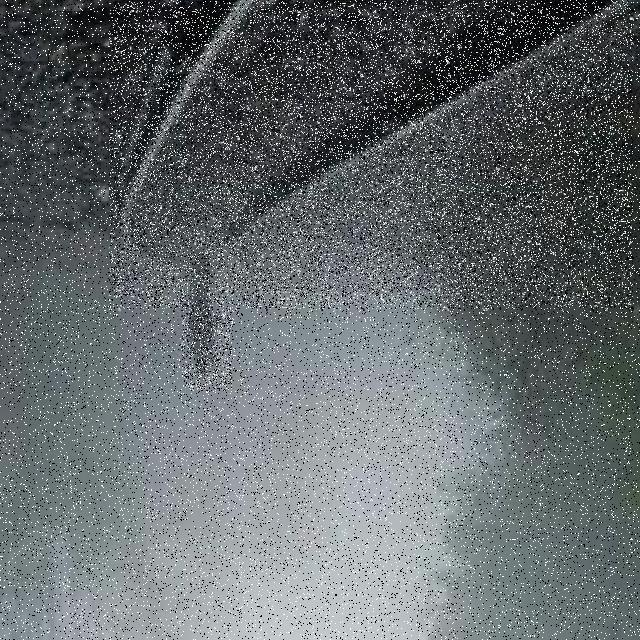danger: (182, 215, 232, 391)
rail: (110, 1, 633, 309)
